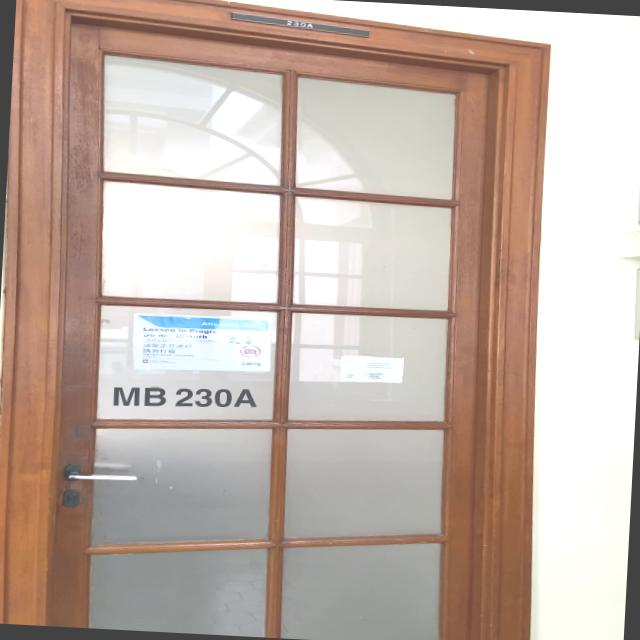room230A: (228, 10, 370, 38)
room230AWindow: (108, 379, 264, 417)
